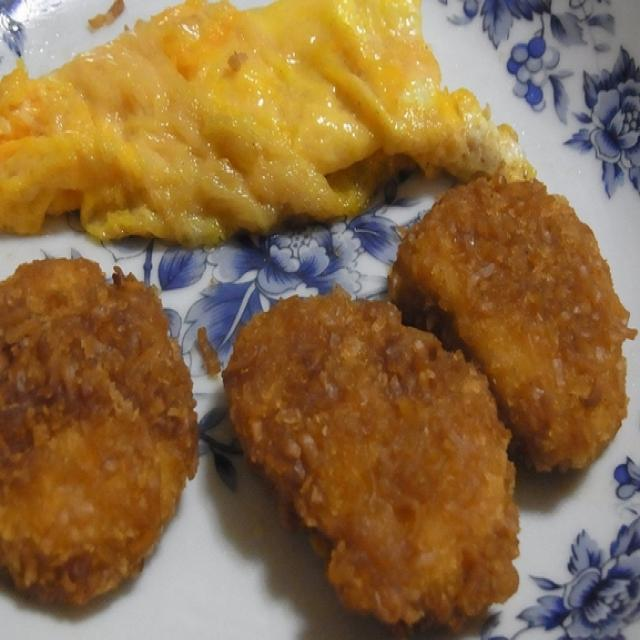Chicken nugget: (9, 169, 640, 639)
